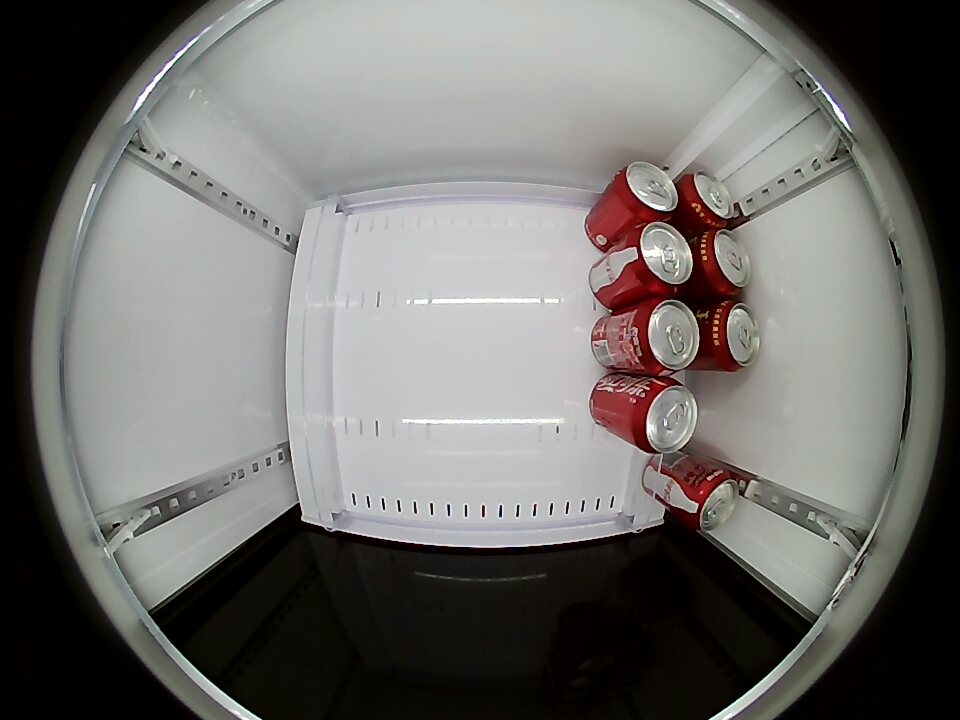kele: (629, 377, 699, 455), (632, 298, 701, 375), (628, 221, 693, 294), (611, 161, 679, 221), (683, 468, 740, 532)
wanglaoji-c: (707, 299, 761, 372), (698, 230, 752, 296), (680, 170, 736, 228)
